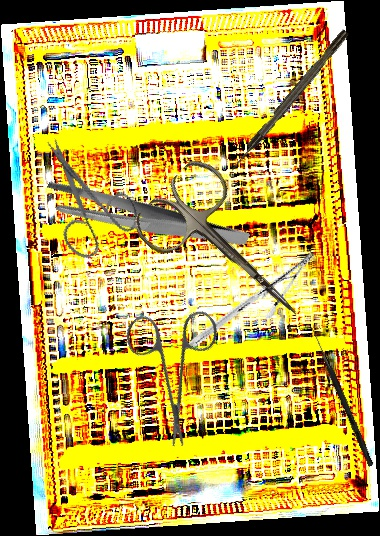Dressing Forceps: (39, 139, 251, 296)
Hook Surgical: (227, 28, 351, 174), (307, 326, 376, 467)
Iris Scissors: (127, 152, 331, 353), (88, 280, 260, 451), (12, 134, 155, 272)
Needle Holder: (187, 221, 317, 378)
